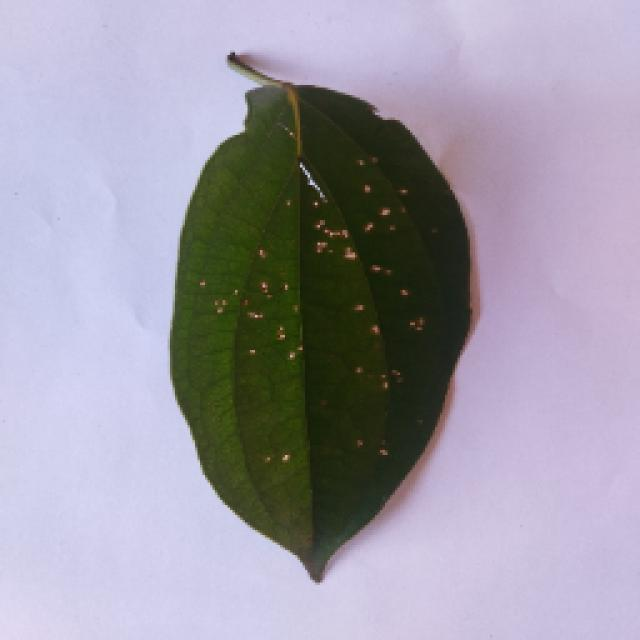pollu-disease: (145, 53, 503, 575)
